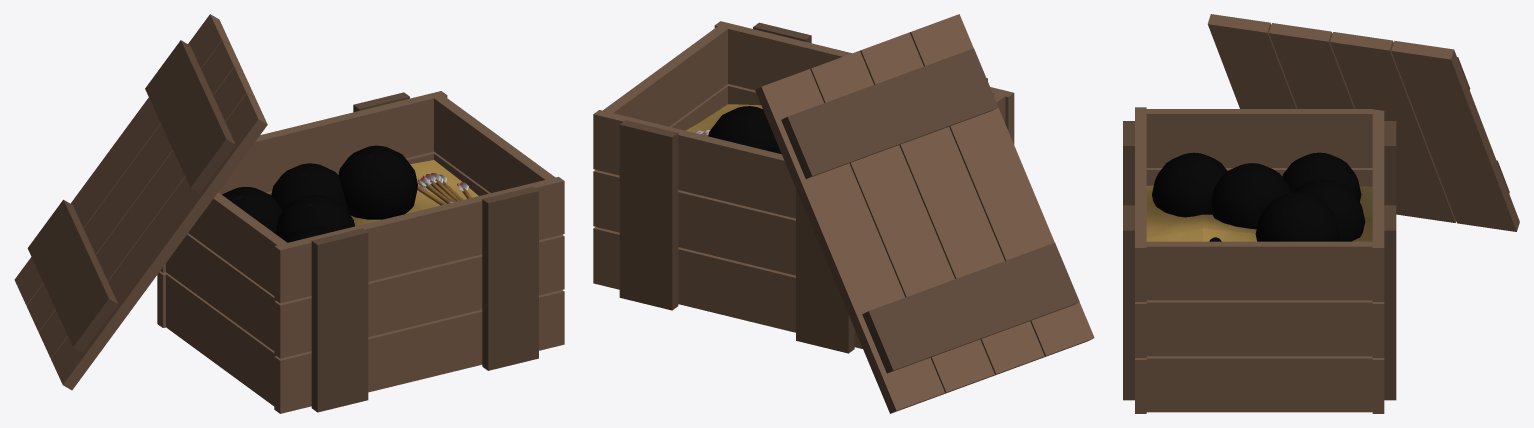
The model's file is ammo_box.fbx.
The picture shows the model from 3 angles, left to right: view 1: azimuth 30°, elevation 25°; view 2: azimuth 150°, elevation 25°; view 3: azimuth 270°, elevation 25°; orthographic projection. The views are drawn at different scales.
Parts seen in each view (by area): view 1: box, lid, cannon_ball, wheat, arrows; view 2: lid, box, cannon_ball, wheat; view 3: box, lid, cannon_ball, wheat.
Boxes of the visible parts, x1=… form: box: x1=157, y1=91, x2=564, y2=413; lid: x1=14, y1=14, x2=267, y2=390; cannon_ball: x1=222, y1=145, x2=417, y2=242; wheat: x1=350, y1=160, x2=478, y2=226; arrows: x1=417, y1=173, x2=471, y2=205; lid: x1=755, y1=14, x2=1094, y2=413; box: x1=593, y1=21, x2=1014, y2=353; cannon_ball: x1=708, y1=106, x2=781, y2=154; wheat: x1=685, y1=104, x2=762, y2=132; box: x1=1123, y1=107, x2=1396, y2=413; lid: x1=1207, y1=14, x2=1519, y2=231; cannon_ball: x1=1152, y1=152, x2=1365, y2=241; wheat: x1=1146, y1=185, x2=1372, y2=241.
Size of the model in its own units: 213 by 125 by 167.
